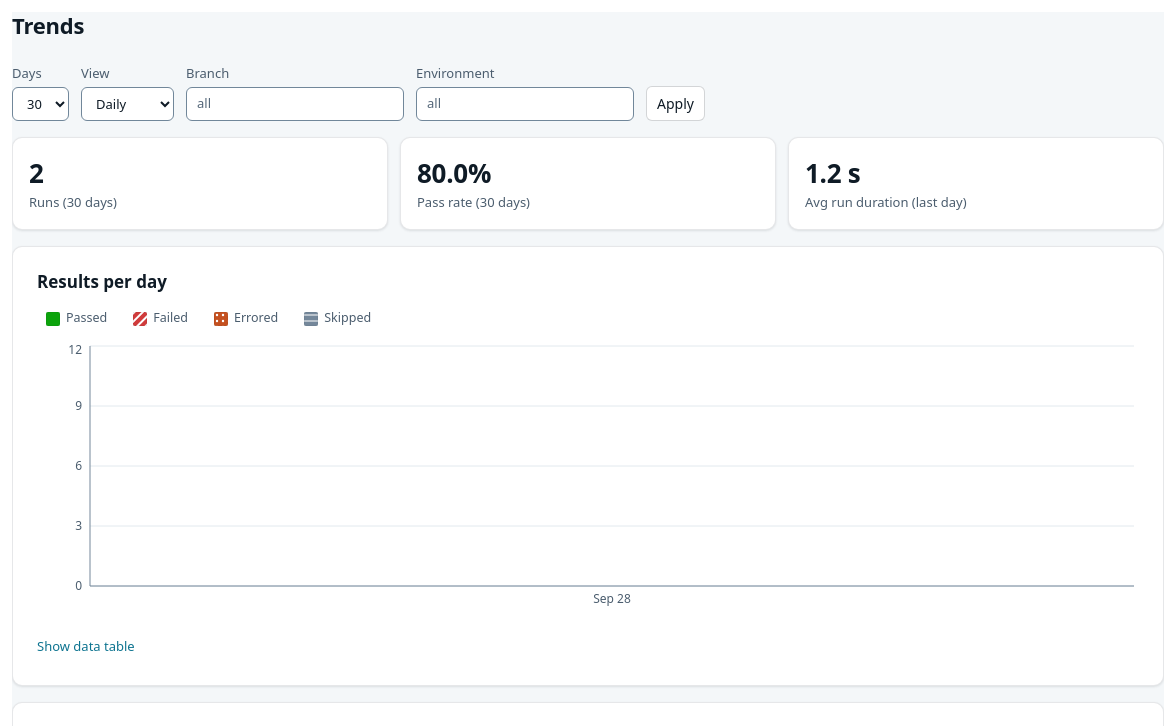
Scenario: headings, summaries and the duration tile follow the view (week, month)
Expected: the heading "Results per day" is shown, 37,270 -> 167,292
Expected: the text "Avg run duration (last day)" is shown, 805,193 -> 966,211
Select "Weekly" in the dropdown labelled "View" at (128, 104), box 81,87 -> 174,121
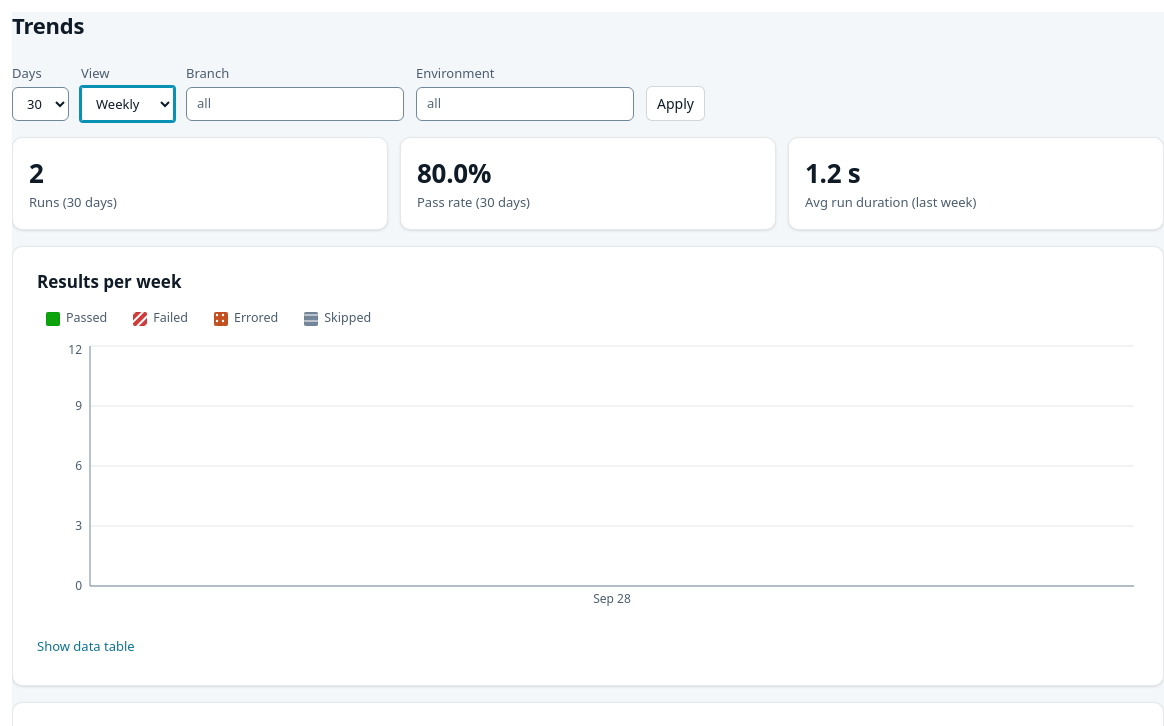
Expected: the heading "Results per week" is shown, 37,270 -> 182,292
Expected: the text "Avg run duration (last week)" is shown, 805,193 -> 976,211
Select "Monthly" in the dropdown labelled "View" at (128, 104), box 81,87 -> 174,121
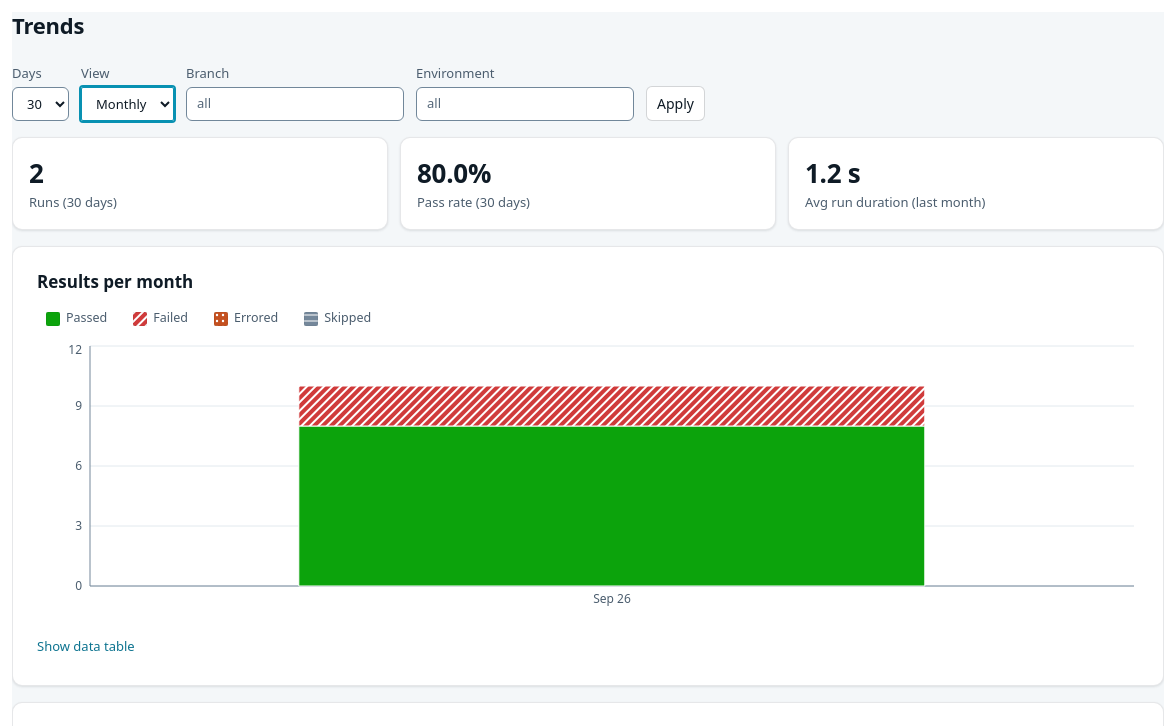
Expected: the heading "Results per month" is shown, 37,270 -> 193,292
